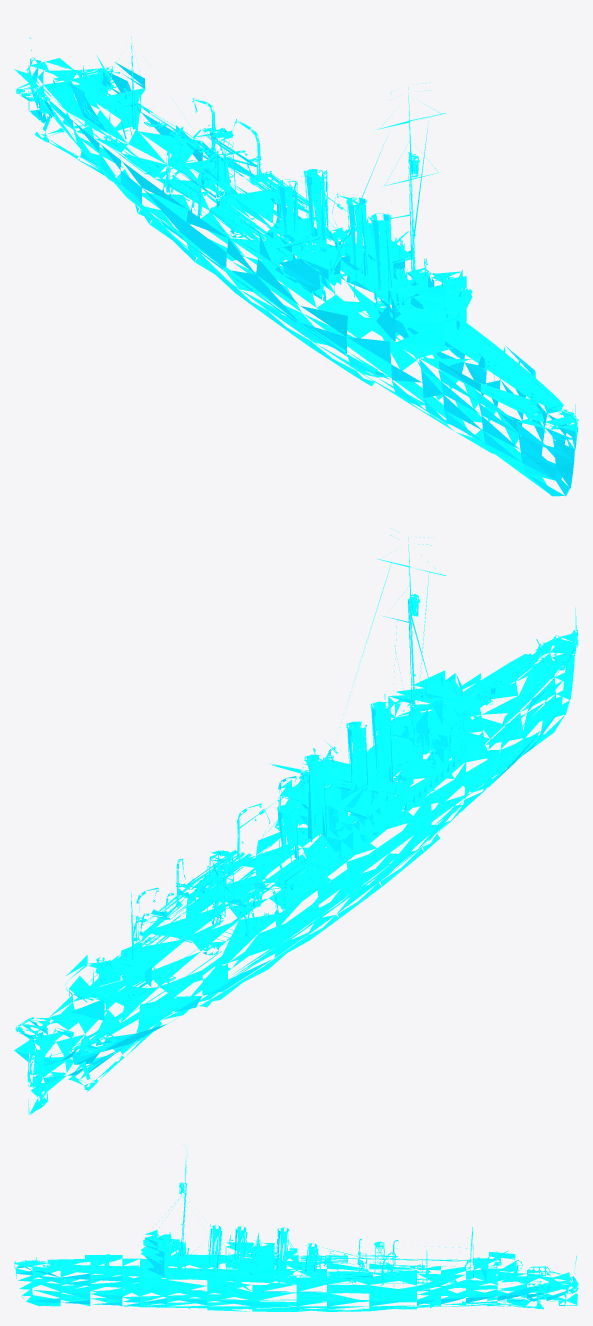
The model's file is Campbeltown.glb.
3 renders of one model, top to bottom at view 1: azimuth 30°, elevation 25°; view 2: azimuth 150°, elevation 25°; view 3: azimuth 270°, elevation 25°, orthographic. The views are drawn at different scales.
Size of the model in its own units: 0.9446 by 1.98 by 6.38.
